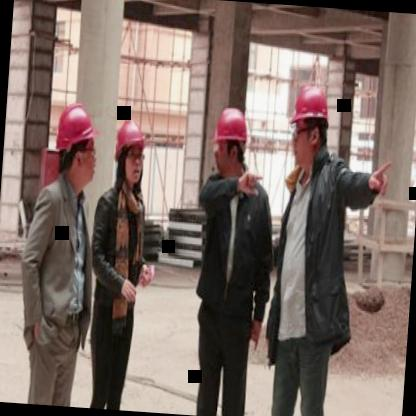helmet: (52, 100, 102, 190), (285, 81, 334, 168), (207, 102, 254, 178), (113, 115, 150, 193)
